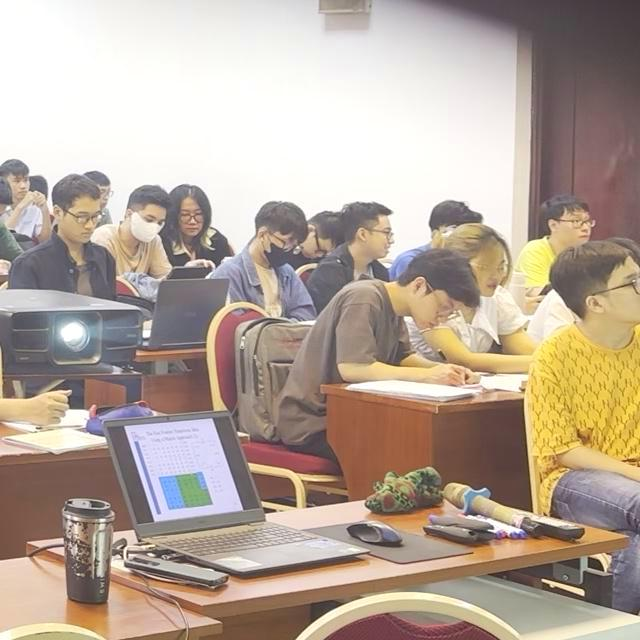Looking away: (412, 288, 457, 332), (470, 245, 509, 295), (358, 211, 393, 261), (62, 195, 99, 242), (256, 225, 293, 269), (129, 205, 166, 241), (178, 195, 204, 235)
Looking forward: (557, 206, 592, 244), (9, 170, 30, 198)
